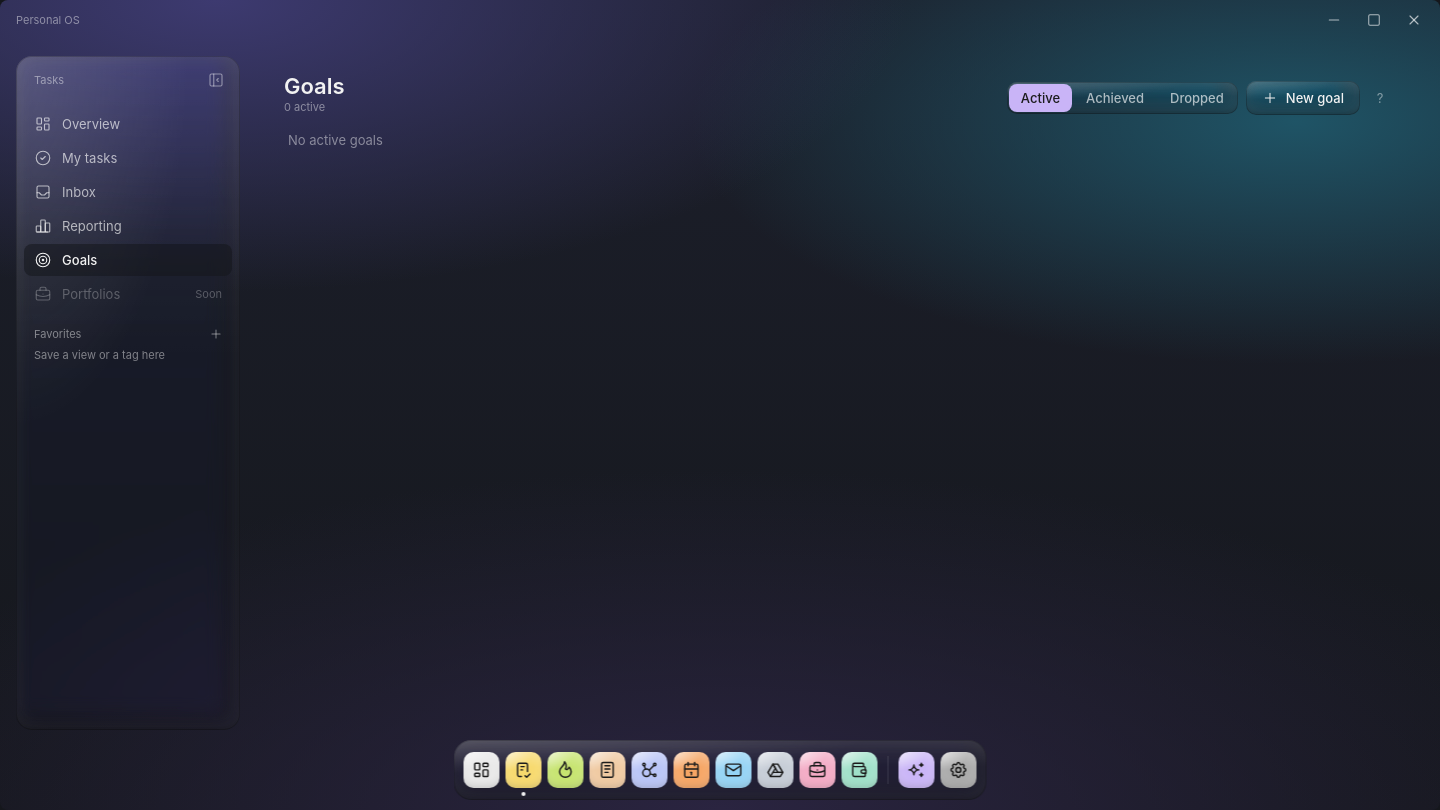
Test case: cards › shows Achieved and Dropped cards with the day they were closed
The image size is (1440, 810).
Click the radio button labelled "Achieved" at (1115, 98), box top-left (1074, 84), bottom-right (1156, 112)
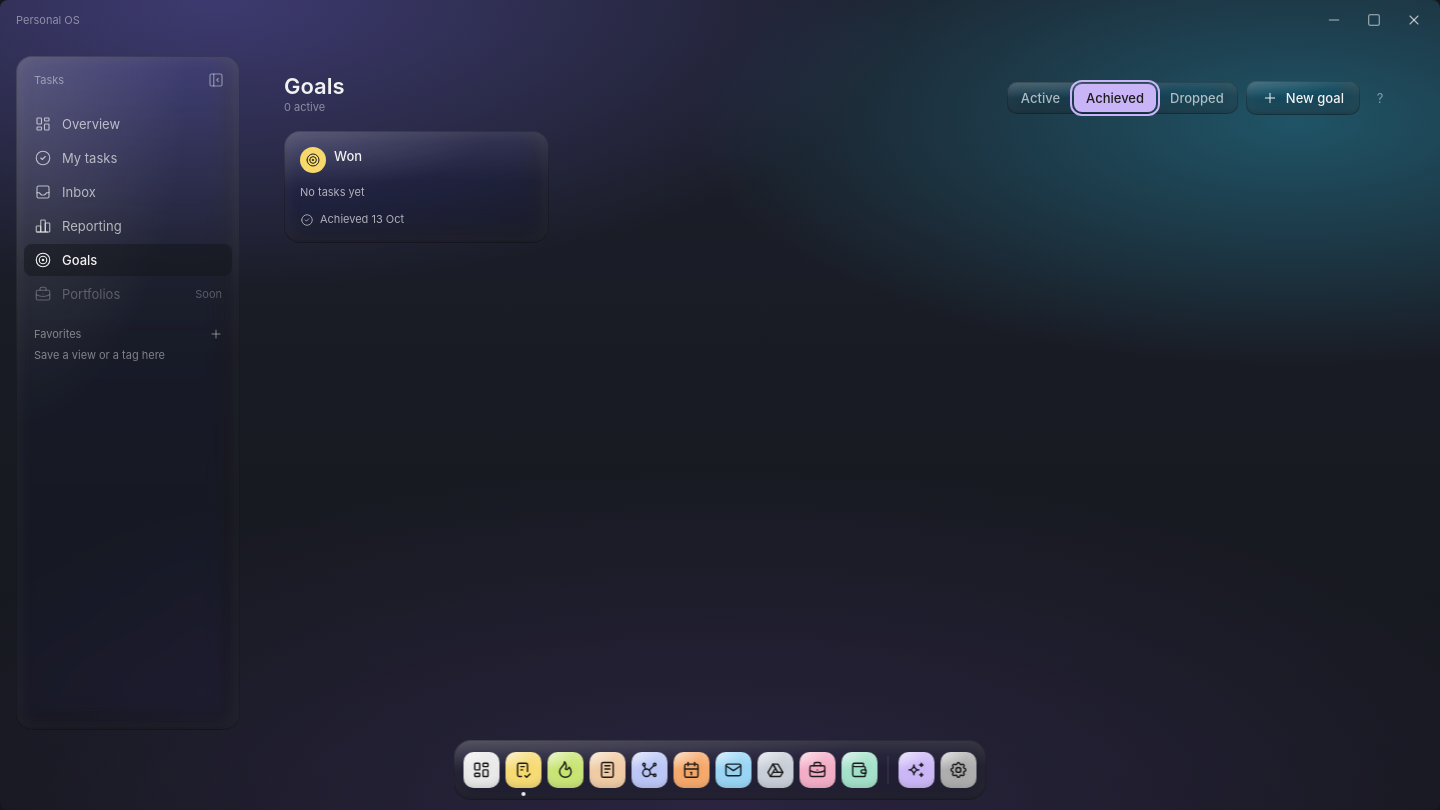
Now the text "Achieved 13 Oct" is shown, box top-left (300, 212), bottom-right (404, 226)
Click the radio button labelled "Dropped" at (1197, 98), box top-left (1158, 84), bottom-right (1236, 112)
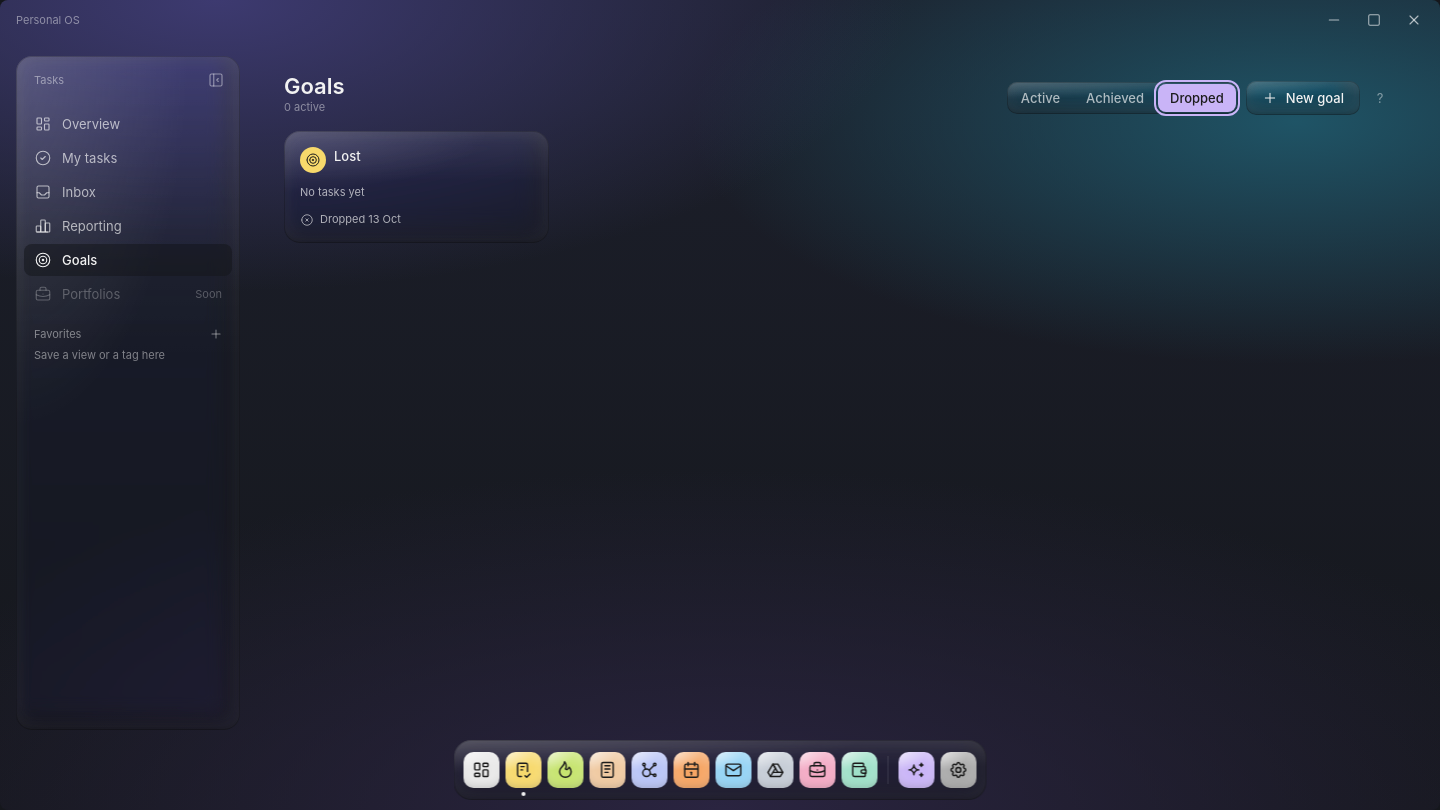
Now the text "Dropped 13 Oct" is shown, box top-left (300, 212), bottom-right (401, 226)
